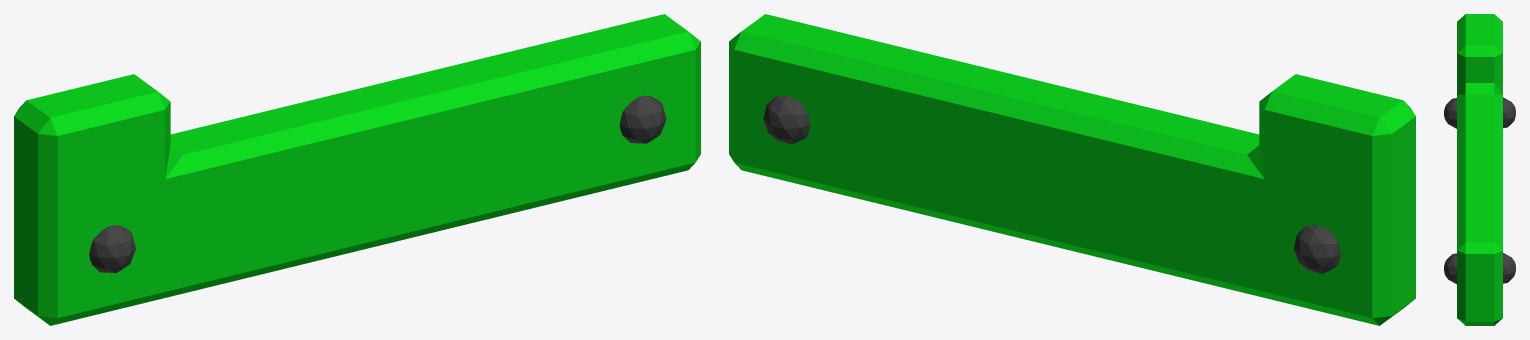
Rendered from BarLF.fbx.
3 views of the same model, side by side, from view 1: azimuth 30°, elevation 25°; view 2: azimuth 150°, elevation 25°; view 3: azimuth 270°, elevation 25° (orthographic). The views are drawn at different scales.
Visible parts, largest first — view 1: BarF; view 2: BarF; view 3: BarF.
Part boxes in pixels (<box>): BarF: <box>14,14,700,325</box>; BarF: <box>729,14,1415,325</box>; BarF: <box>1444,14,1515,325</box>.
Bounding box in the file's own units: 1000 × 300 × 157.
